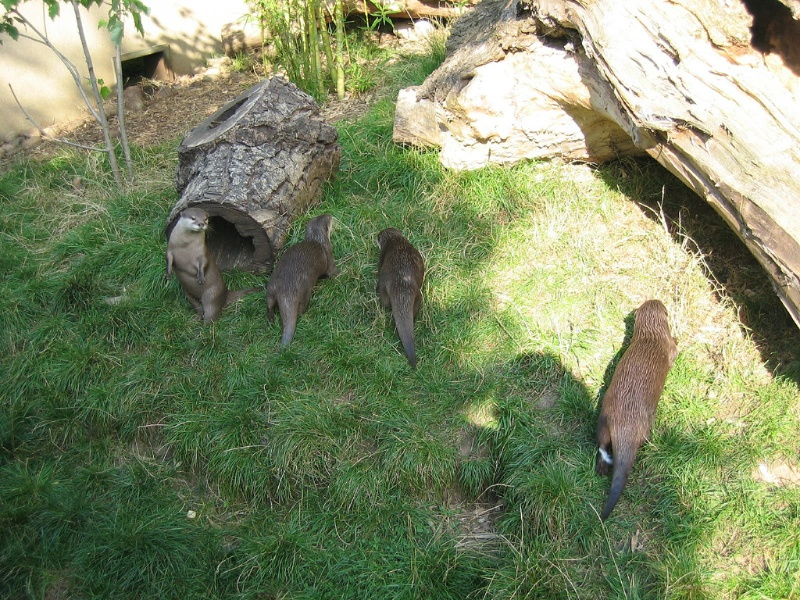minkish: (590, 297, 682, 521), (158, 205, 251, 331), (260, 212, 337, 351), (368, 223, 437, 373)
